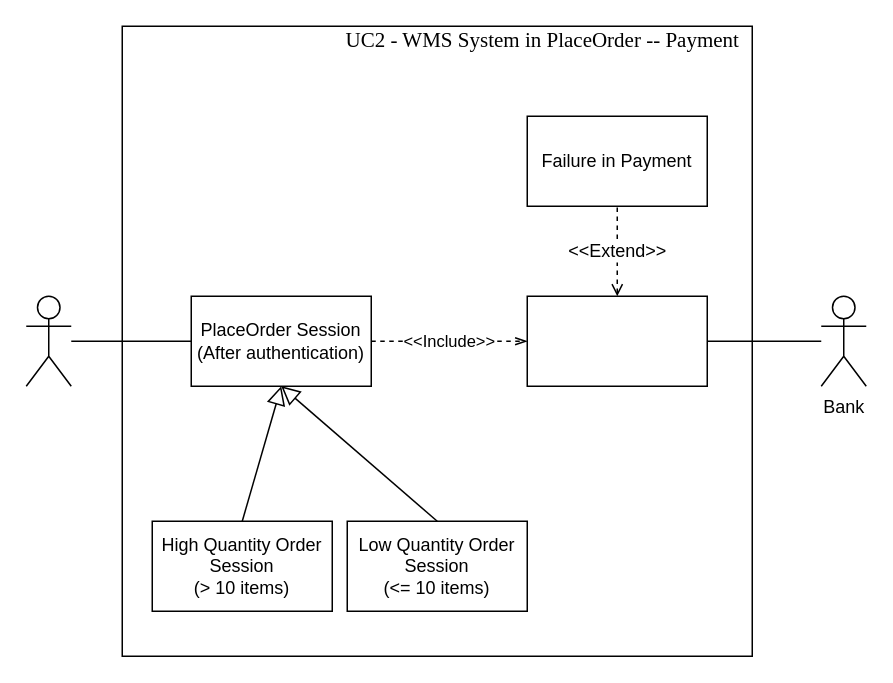
Image size: 893x683. Some labels were removed from this diagram. Each missing label, with the centre of its shape:
Payment: the point at 616,340
User: the point at 48,340
